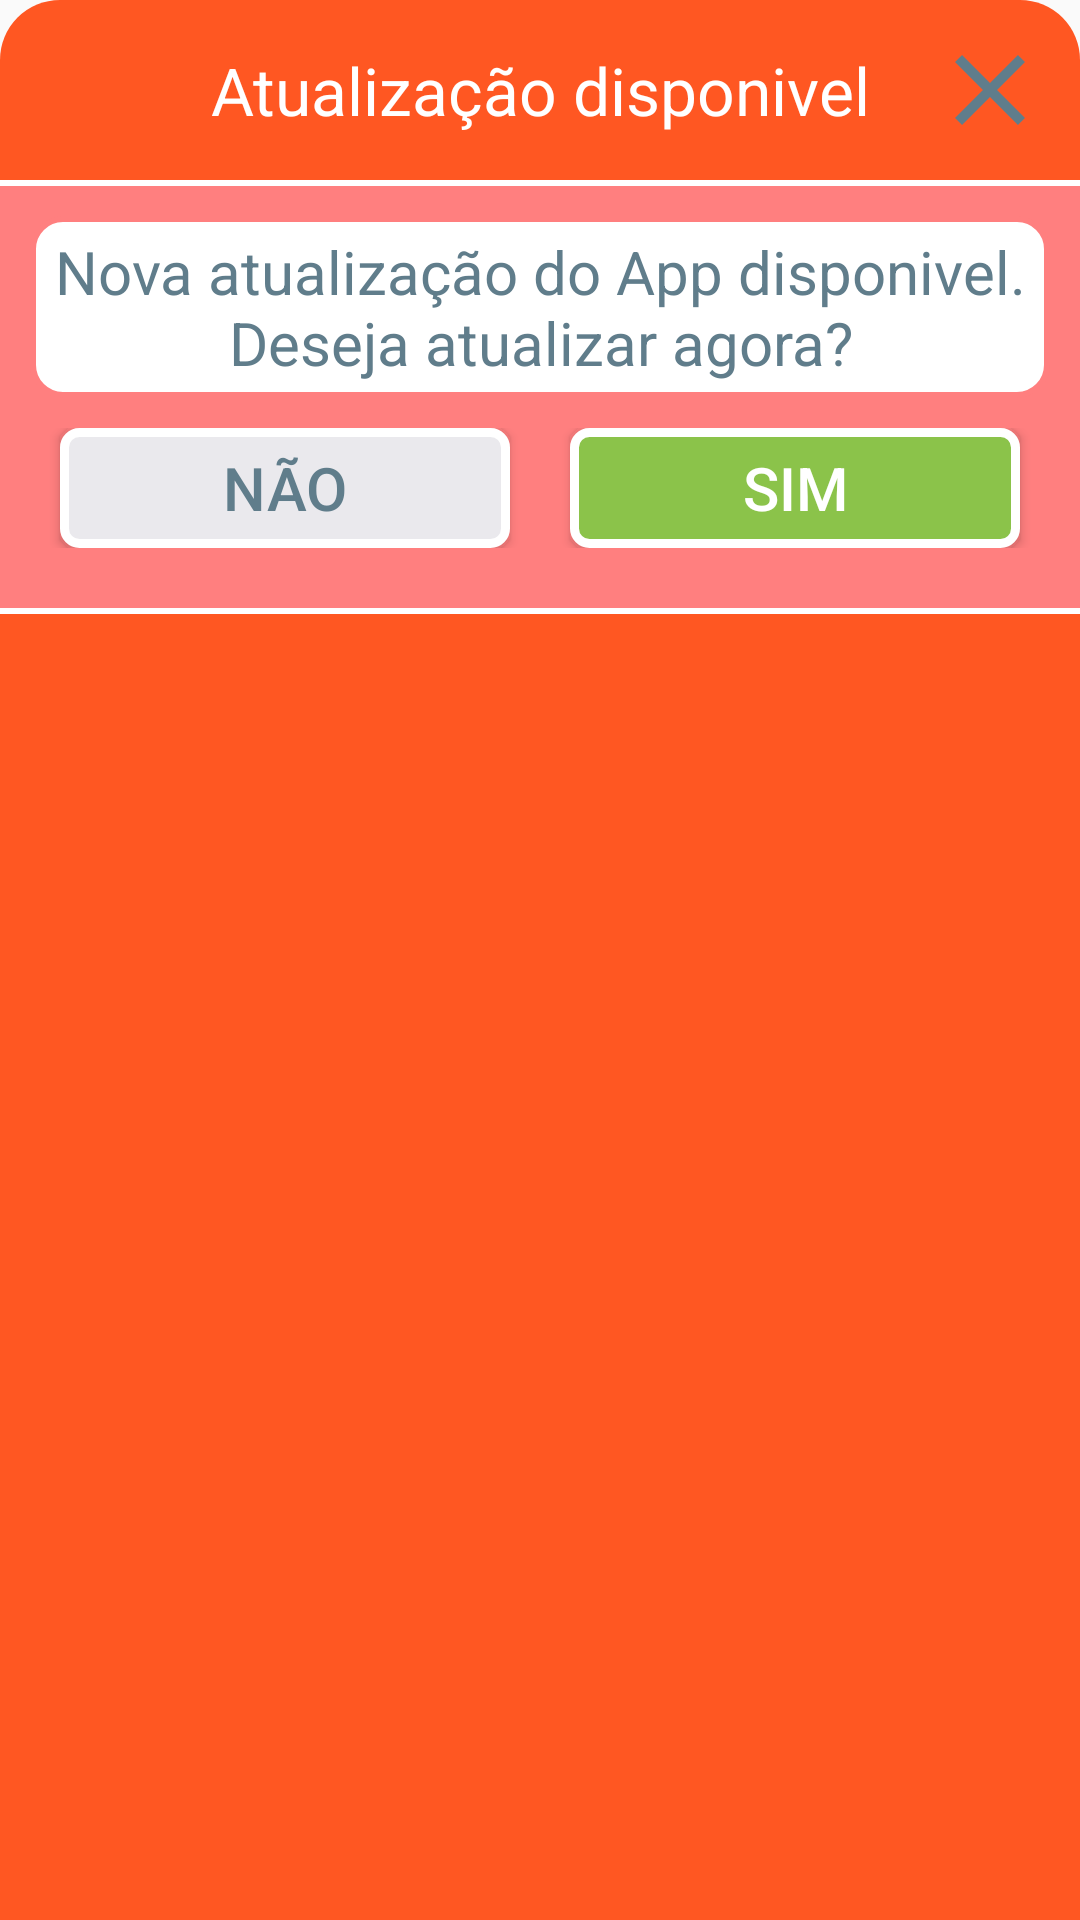

Point at icon controls on the screen. Image size 1080×1920, points as point (x, y).
close: point (990, 90)
